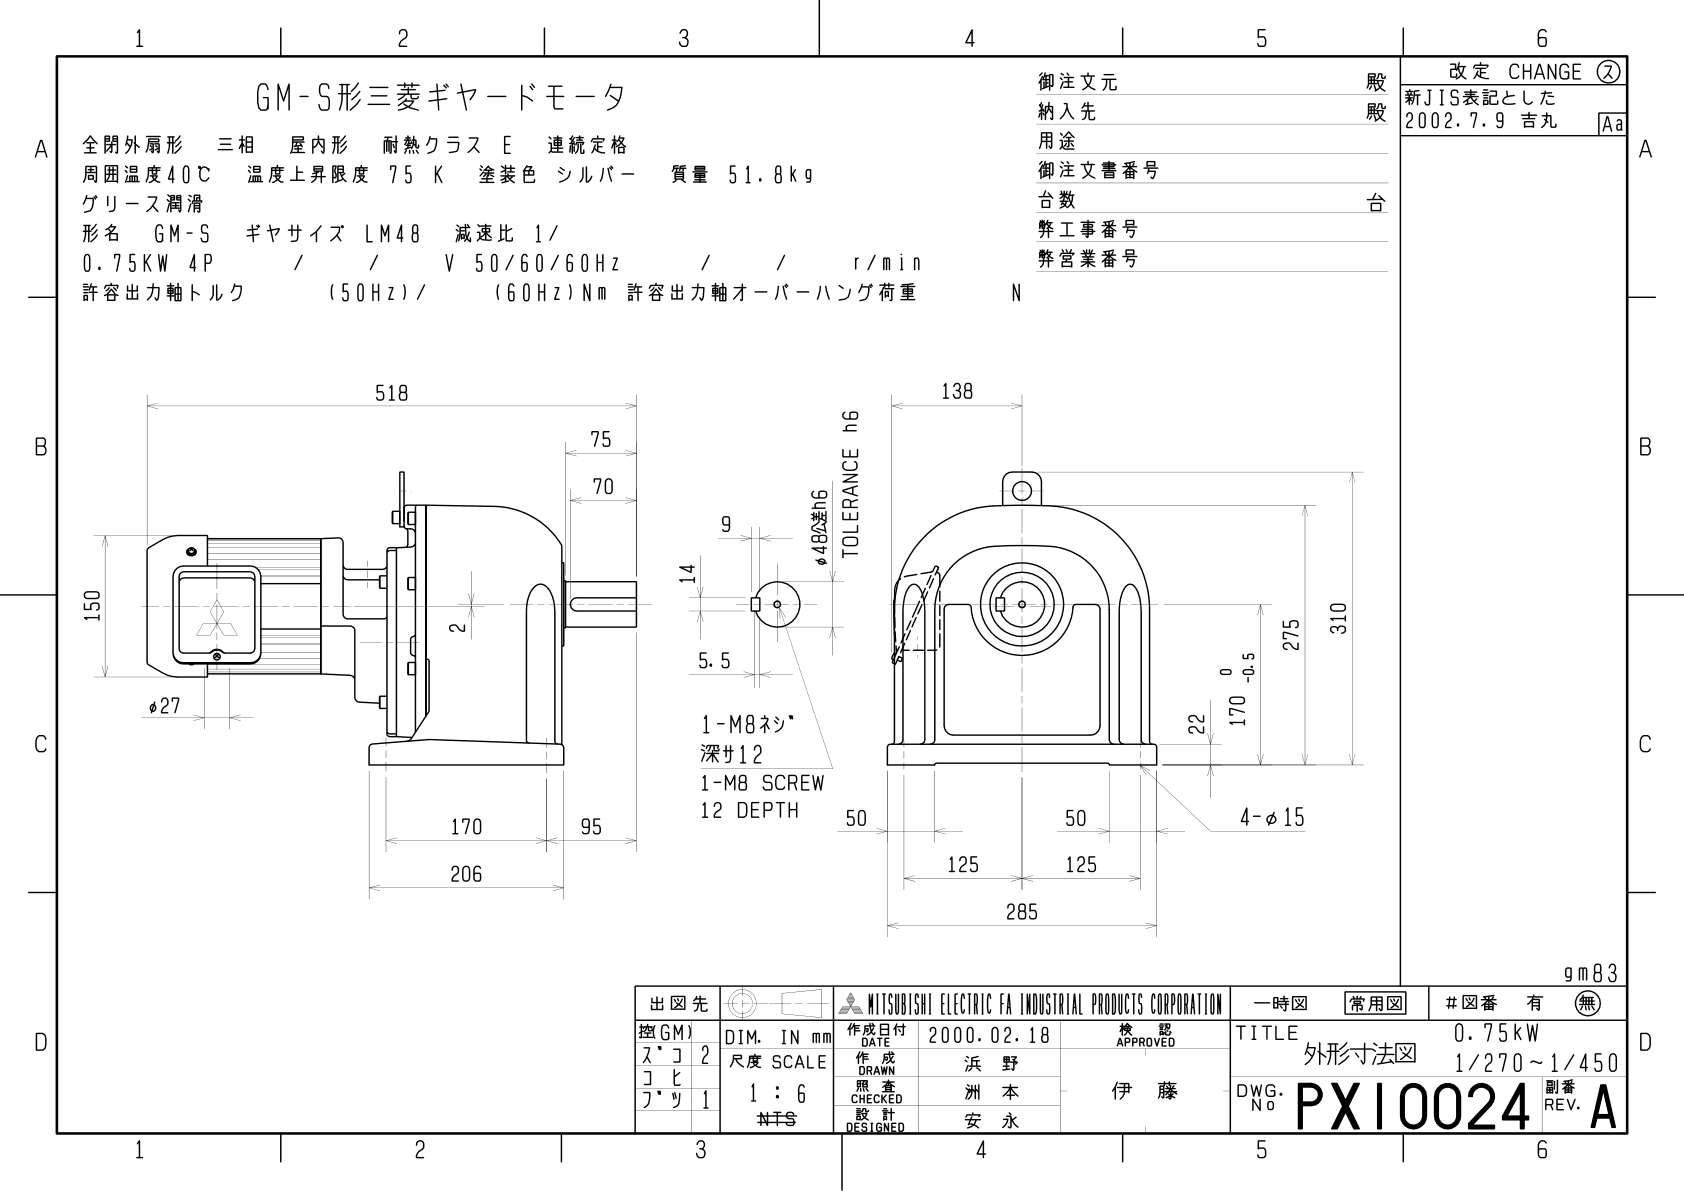GM_S_屋内＿三相_脚: (73, 343, 1383, 951)
